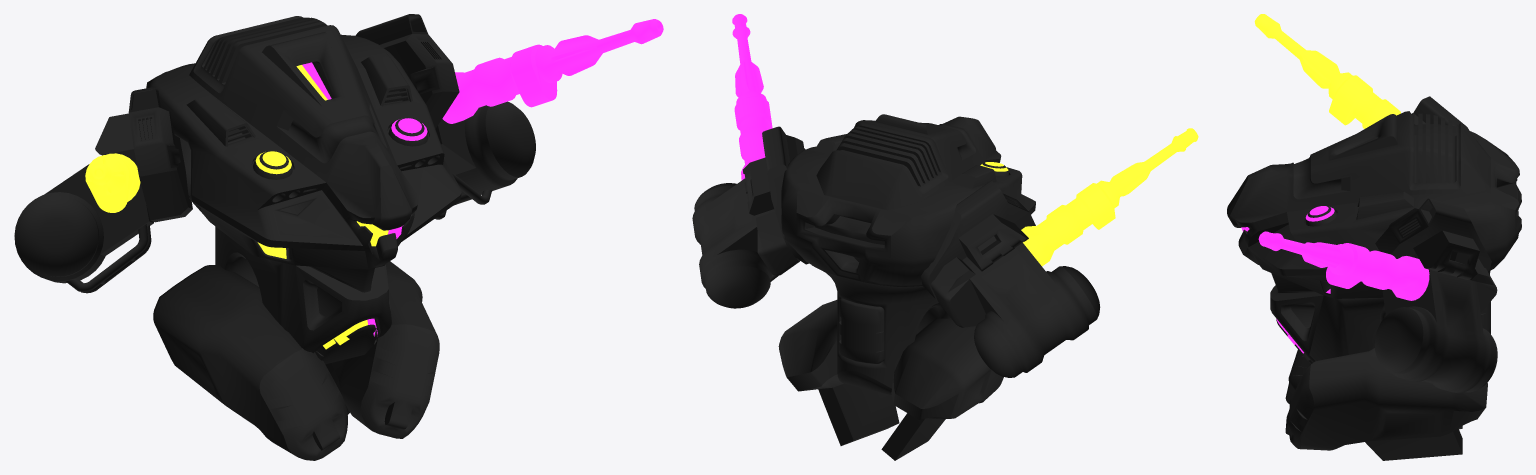
File: boss_last.glb
3 views of the same model, side by side, from view 1: azimuth 30°, elevation 25°; view 2: azimuth 150°, elevation 25°; view 3: azimuth 270°, elevation 25° (orthographic). The views are drawn at different scales.
Parts seen in each view (by area): view 1: boss01_M_spawnNegro_0, boss01_M_spawnLuz2_0, boss01_M_spawnLuz_0; view 2: boss01_M_spawnNegro_0, boss01_M_spawnLuz_0, boss01_M_spawnLuz2_0; view 3: boss01_M_spawnNegro_0, boss01_M_spawnLuz2_0, boss01_M_spawnLuz_0.
Boxes of the visible parts, <box> form: boss01_M_spawnNegro_0: <box>14,14,535,460</box>; boss01_M_spawnLuz2_0: <box>302,19,663,336</box>; boss01_M_spawnLuz_0: <box>85,65,388,349</box>; boss01_M_spawnNegro_0: <box>692,114,1100,460</box>; boss01_M_spawnLuz_0: <box>980,128,1198,266</box>; boss01_M_spawnLuz2_0: <box>732,14,772,180</box>; boss01_M_spawnNegro_0: <box>1227,96,1521,460</box>; boss01_M_spawnLuz2_0: <box>1241,206,1429,353</box>; boss01_M_spawnLuz_0: <box>1254,14,1400,128</box>.
Bounding box in the file's own units: 213 × 143 × 115.
